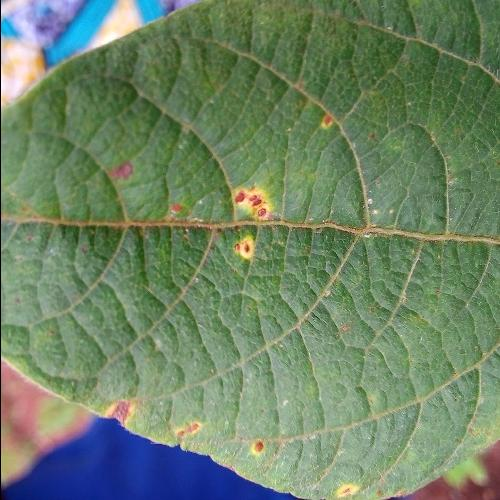hawar: (214, 180, 288, 266), (103, 392, 151, 430), (314, 100, 355, 137), (103, 154, 145, 186), (172, 416, 213, 440), (250, 434, 274, 458)
mozaik: (295, 190, 477, 464)
